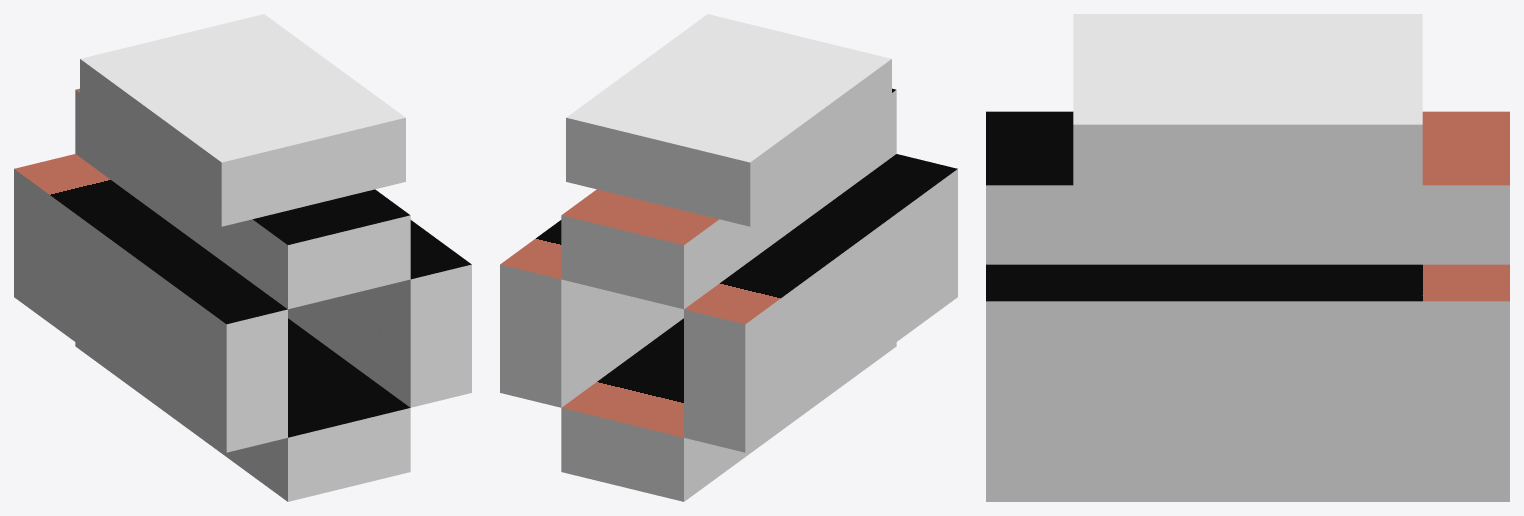
File: flow_detector.obj
3 renders of one model, left to right at view 1: azimuth 30°, elevation 25°; view 2: azimuth 150°, elevation 25°; view 3: azimuth 270°, elevation 25°, orthographic. The views are drawn at different scales.
Visible parts, largest first — view 1: Back4, Shape1, Back1, Back3, Back2; view 2: Back4, Shape1, Back1, Back3, Back2; view 3: Back3, Shape1, Back1, Back2.
Boxes of the visible parts, x1,y1,x2,y2 form: Back4: (14,154,287,452); Shape1: (80,14,405,226); Back1: (75,88,410,309); Back3: (288,220,471,407); Back2: (75,318,410,501); Back4: (684,154,957,452); Shape1: (566,14,891,226); Back1: (561,88,896,309); Back3: (500,220,683,407); Back2: (561,318,896,501); Back3: (986,264,1509,459); Shape1: (1073,14,1422,203); Back1: (986,111,1509,264); Back2: (986,459,1509,501).
Size of the model in its own units: 0.25 by 0.3125 by 0.375.
